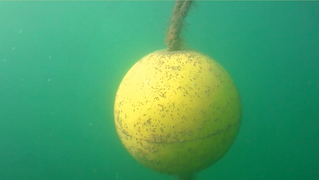buoy: (113, 48, 243, 176)
